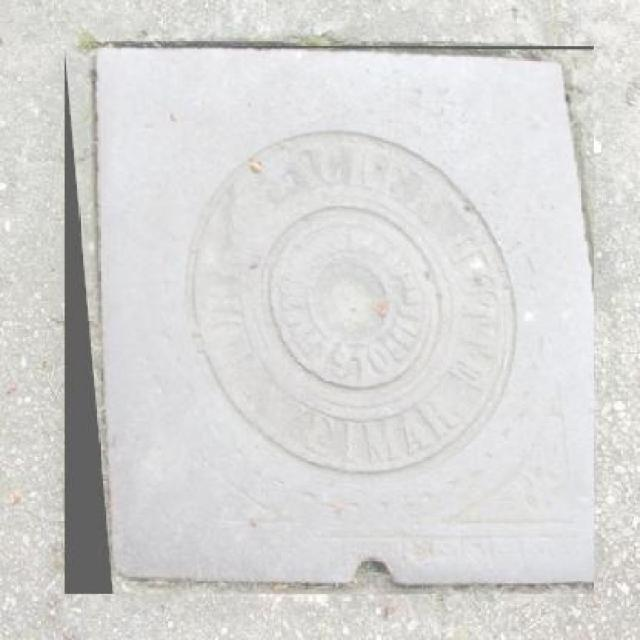Manhole: (66, 46, 595, 594)
